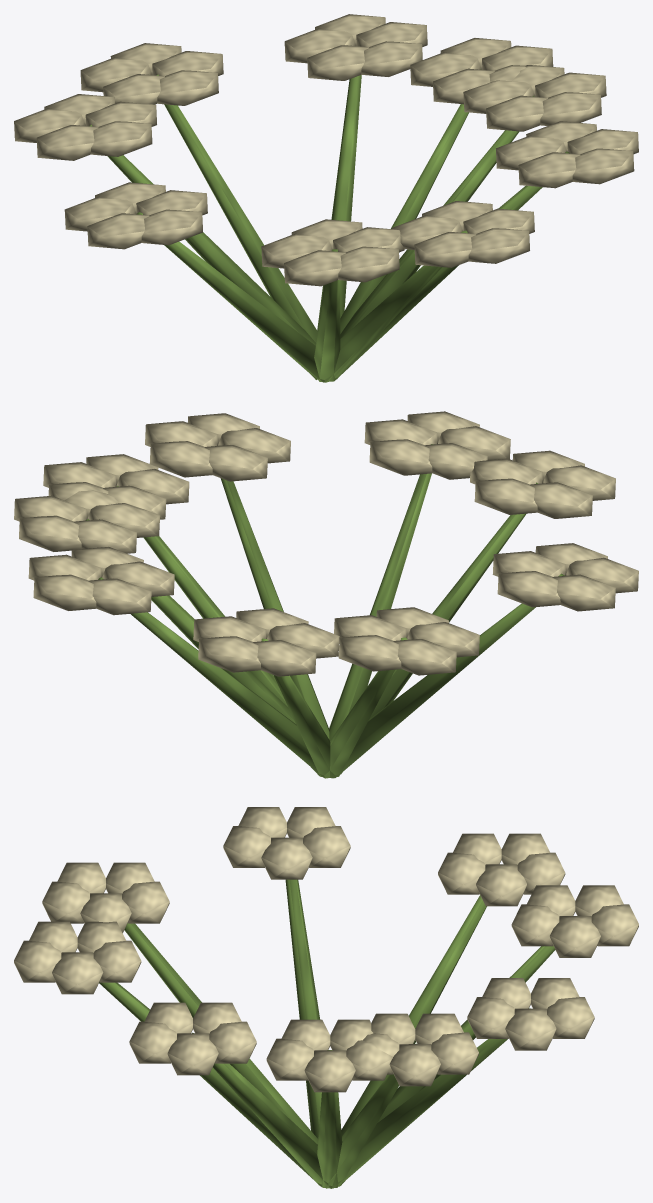
The model's file is meadow_flowers.glb.
3 views of the same model, one above another, from view 1: azimuth 30°, elevation 25°; view 2: azimuth 150°, elevation 25°; view 3: azimuth 270°, elevation 25° (orthographic). The views are drawn at different scales.
Parts seen in each view (by area): view 1: meadow_flowers.001; view 2: meadow_flowers.001; view 3: meadow_flowers.001.
Part boxes in pixels (x1,y1,x2,y2): meadow_flowers.001: [14, 14, 638, 382]; meadow_flowers.001: [14, 411, 638, 778]; meadow_flowers.001: [14, 807, 638, 1188].
Bounding box in the file's own units: 0.9882 × 0.4165 × 0.9369.
1 material, 1 textured.
